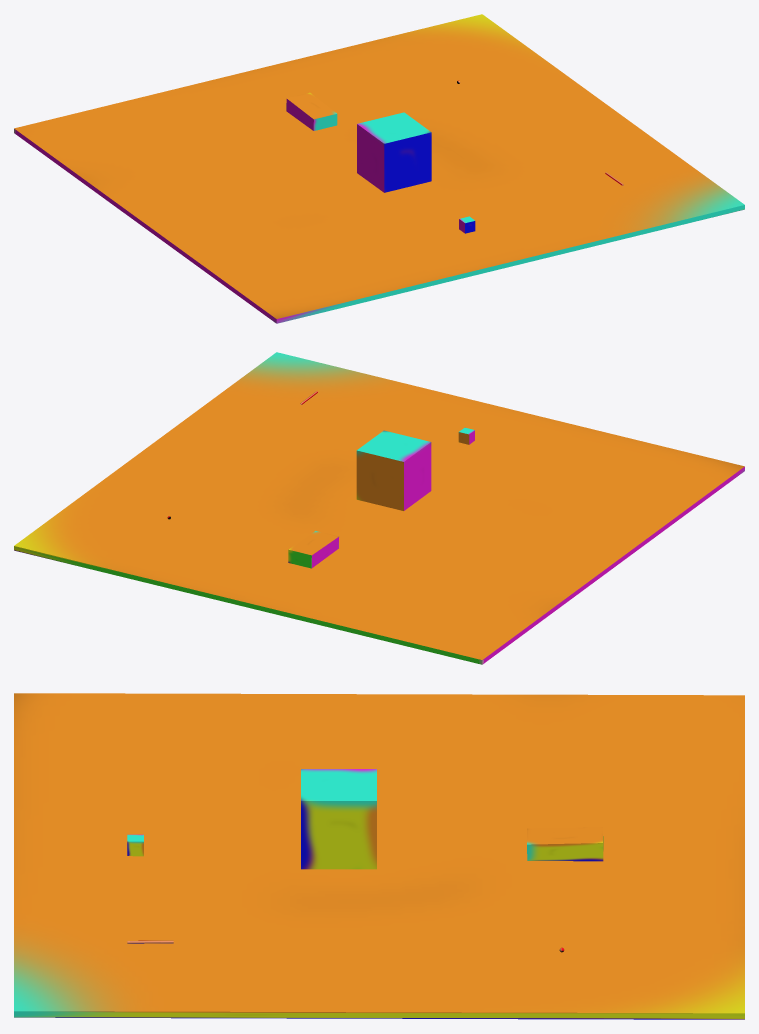
File: tilted.gltf
3 views of the same model, one above another, from view 1: azimuth 30°, elevation 25°; view 2: azimuth 150°, elevation 25°; view 3: azimuth 270°, elevation 25° (orthographic). The views are drawn at different scales.
Visible parts, largest first — view 1: Cube, Cube.001, Cube.003; view 2: Cube, Cube.001, Cube.003; view 3: Cube, Cube.001, Cube.003.
Part boxes in pixels (left/top/right/bottom): Cube: left=14, top=14, right=744, bottom=323; Cube.001: left=357, top=112, right=431, bottom=192; Cube.003: left=286, top=92, right=337, bottom=130; Cube: left=14, top=352, right=744, bottom=664; Cube.001: left=356, top=430, right=431, bottom=510; Cube.003: left=288, top=531, right=338, bottom=568; Cube: left=14, top=693, right=744, bottom=1019; Cube.001: left=301, top=769, right=376, bottom=869; Cube.003: left=527, top=827, right=603, bottom=861.
Size of the model in its own units: 19.8 by 2.21 by 19.23.
2 materials, 2 textured.
